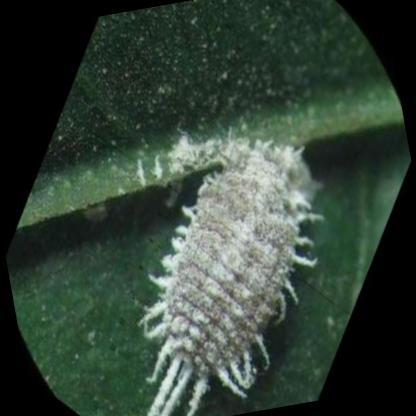mealy bug: (146, 135, 317, 416)
